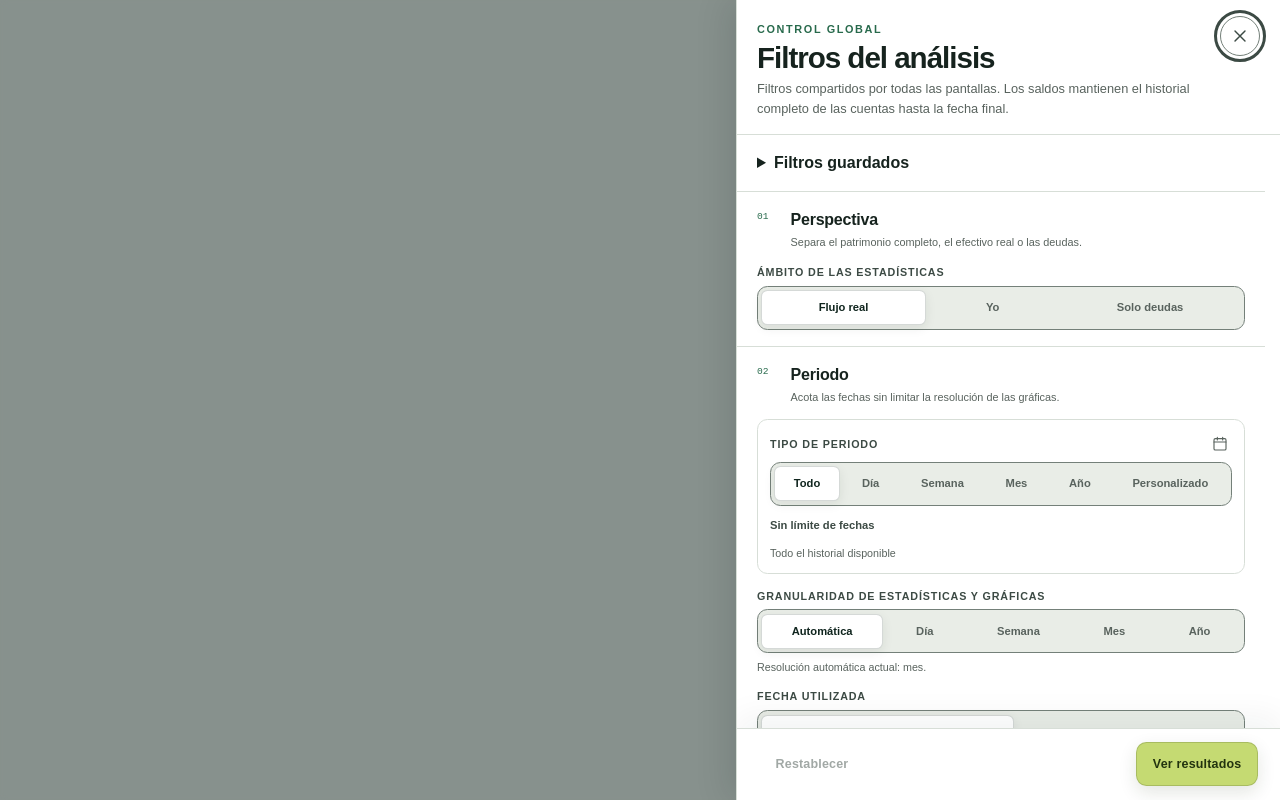
Test case: FilterDrawer › shows the requested perspective order and resets manual Yo to Flujo real
Check: the radio button labelled "Flujo real" is checked, box [761,290,926,326]
Check: the button "Restablecer" is disabled, box [759,742,865,786]
Click the radio button labelled "Yo" at (993, 307), box [986,301,999,313]
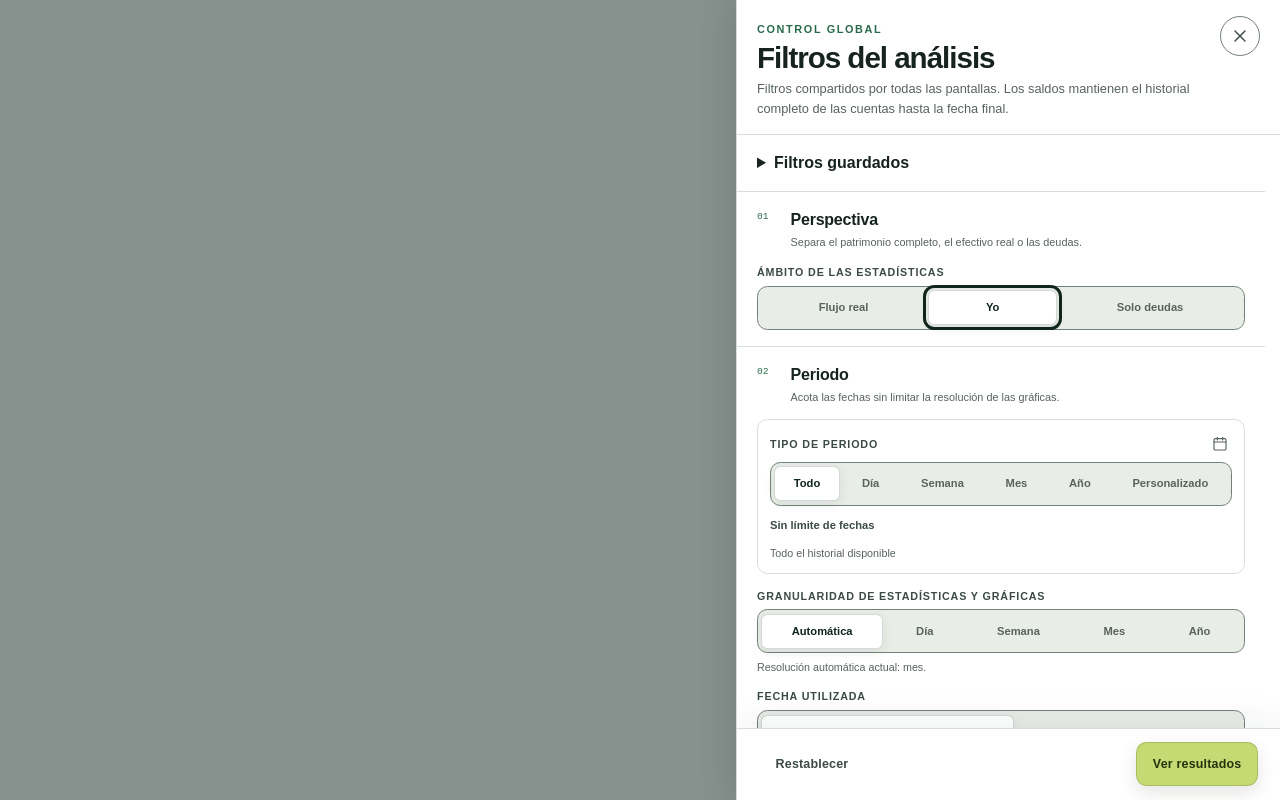
Check: the button "Restablecer" is enabled
Click the button "Restablecer" at (812, 764), box [759,742,865,786]
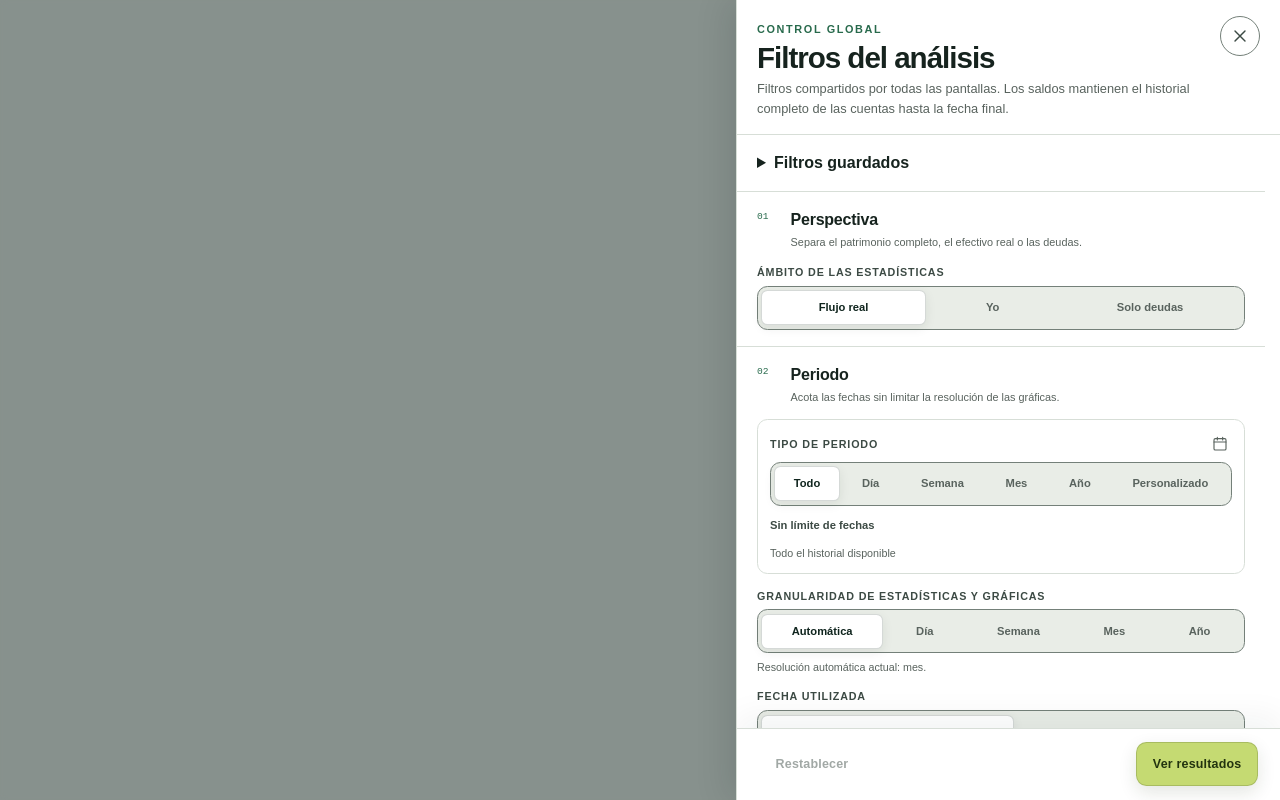
Check: the button "Restablecer" is disabled, box [759,742,865,786]
